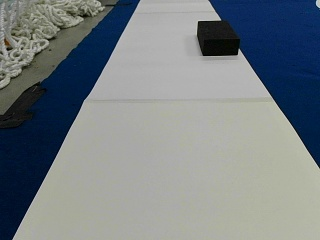block: (196, 20, 239, 56)
